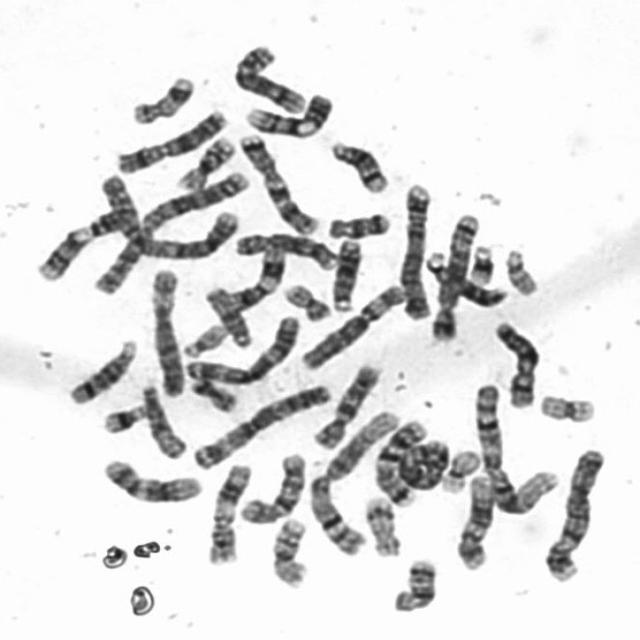A1: (299, 402, 404, 557), (466, 376, 562, 516)
A2: (86, 161, 250, 296), (92, 163, 246, 264)
A3: (185, 376, 335, 470), (178, 307, 304, 386)
B4: (539, 441, 609, 583), (395, 176, 435, 320)
B5: (424, 207, 484, 343), (389, 434, 462, 492)
C10: (306, 356, 386, 450), (234, 446, 308, 526)
C11: (200, 456, 256, 567), (220, 236, 288, 311)
C12: (94, 450, 205, 506), (449, 468, 497, 572)
C6: (293, 276, 411, 371), (142, 262, 188, 399)
C7: (230, 125, 321, 236), (366, 412, 431, 508)
C8: (225, 36, 308, 116), (226, 224, 340, 272)
C9: (29, 199, 136, 282), (237, 84, 336, 138)
D13: (419, 244, 511, 309), (326, 232, 365, 312)
D14: (61, 331, 140, 406), (322, 133, 392, 195)
D15: (133, 375, 189, 460), (198, 279, 256, 351)
E16: (169, 128, 238, 192), (264, 511, 310, 589)
E17: (123, 67, 198, 126), (358, 490, 404, 558)
E18: (386, 552, 440, 614), (321, 205, 393, 240)
F19: (433, 442, 483, 494), (532, 386, 598, 425)
F20: (277, 275, 334, 323), (182, 370, 240, 414)
G21: (93, 396, 151, 435), (463, 237, 497, 285)
G22: (497, 241, 541, 298), (175, 315, 230, 359)
X: (110, 101, 230, 175), (487, 314, 542, 410)
